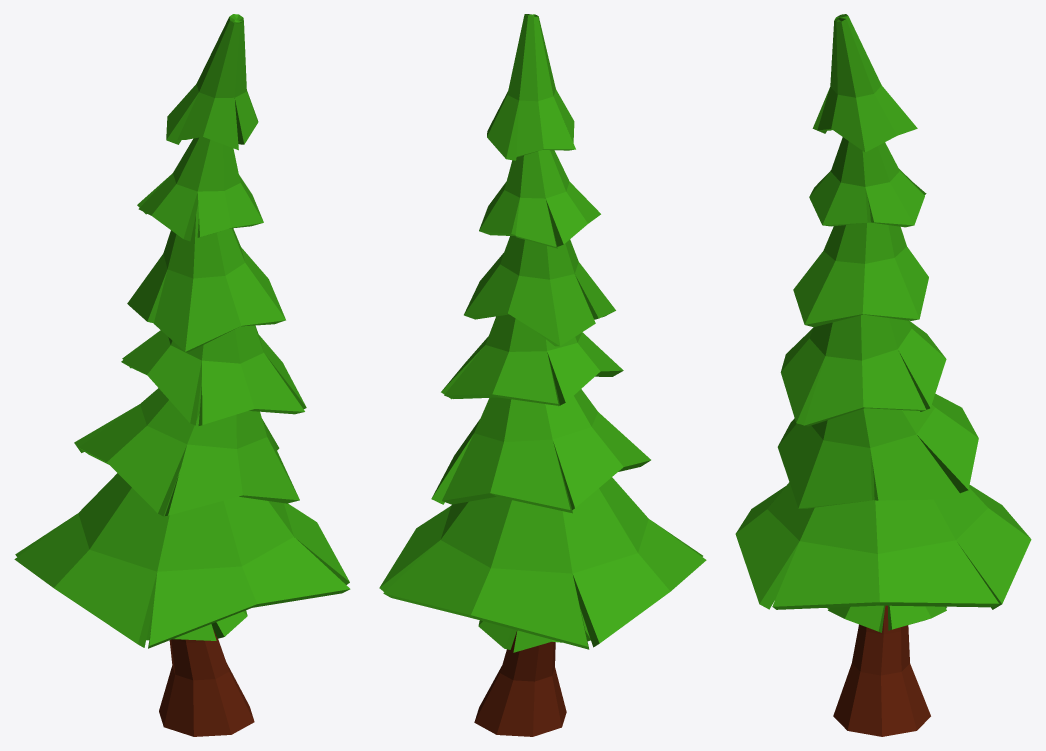
Rendered from tree1.fbx.
3 views of the same model, side by side, from view 1: azimuth 30°, elevation 25°; view 2: azimuth 150°, elevation 25°; view 3: azimuth 270°, elevation 25° (orthographic). The views are drawn at different scales.
Parts seen in each view (by area): view 1: tree1; view 2: tree1; view 3: tree1.
Part boxes in pixels (x1,y1,x2,y2): tree1: (14, 14, 350, 736); tree1: (379, 14, 706, 736); tree1: (735, 14, 1031, 736).
Bounding box in the file's own units: 349 × 901 × 343.
